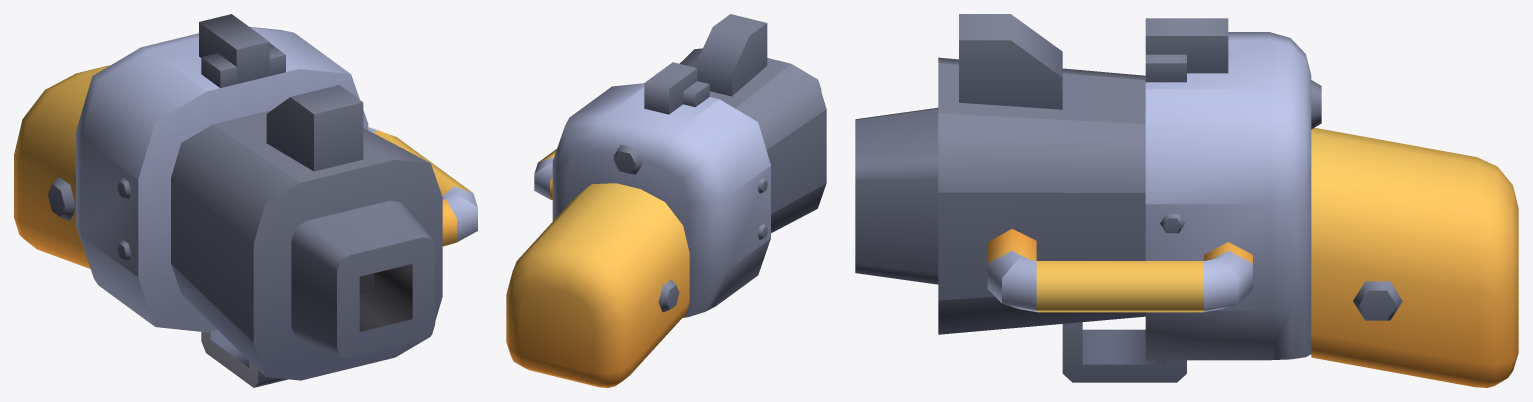
The model's file is gun1.glb.
3 views of the same model, side by side, from view 1: azimuth 30°, elevation 25°; view 2: azimuth 150°, elevation 25°; view 3: azimuth 270°, elevation 25° (orthographic). The views are drawn at different scales.
Parts seen in each view (by area): view 1: blaster; view 2: blaster; view 3: blaster.
Part boxes in pixels (x1,y1,x2,y2): blaster: [14, 14, 477, 387]; blaster: [506, 14, 826, 387]; blaster: [855, 14, 1518, 387].
Size of the model in its own units: 0.8803 by 0.9 by 1.6.
Materials: 1 (1 with a texture image).
